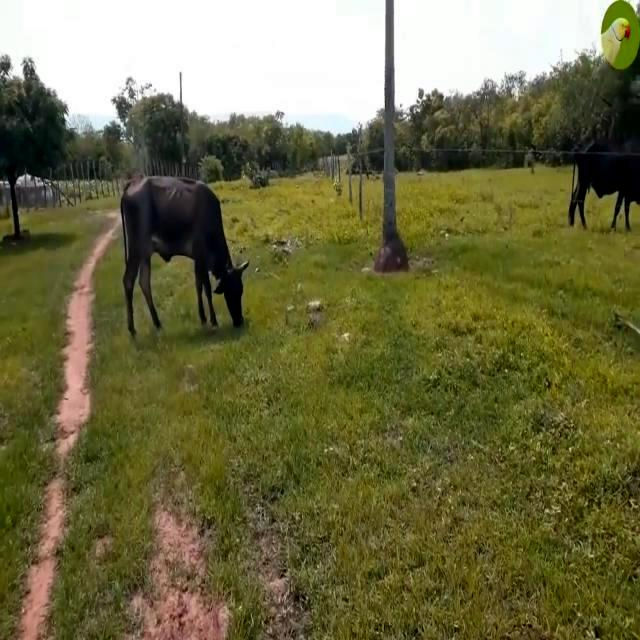COW: (122, 176, 248, 336)
